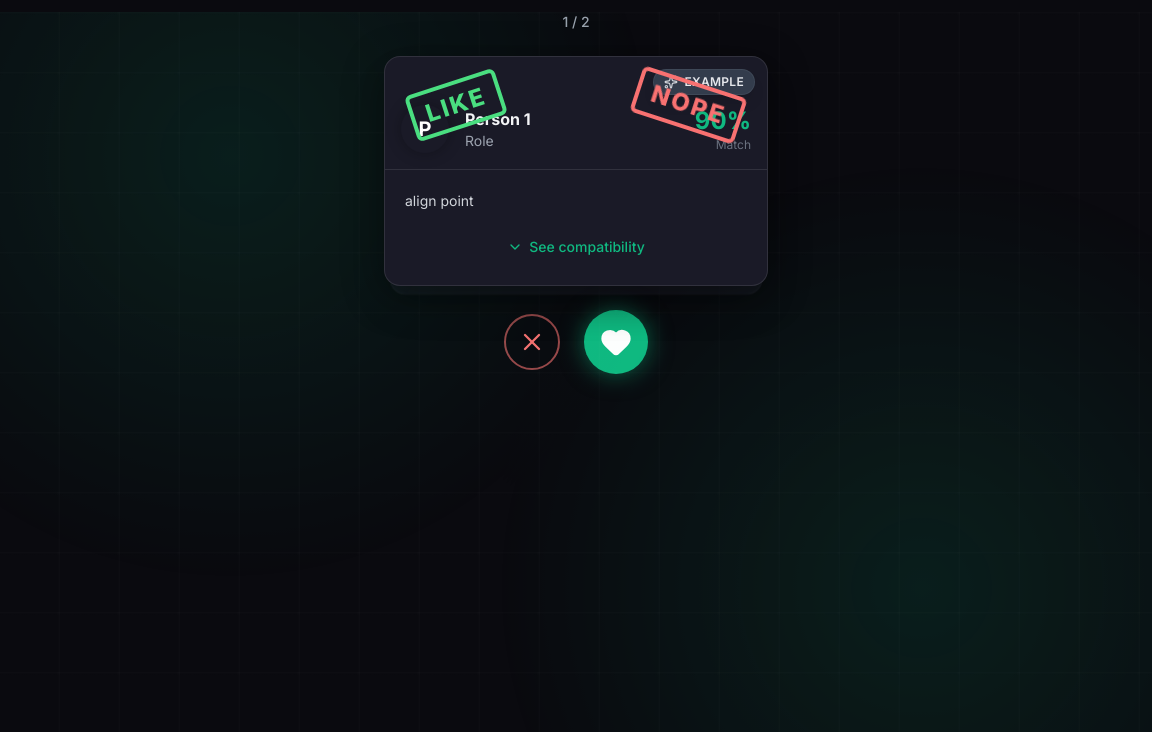
SwipeDeck › advances and buckets when the ♥ Like button is clicked
Click the button named "Like Person 1" at (616, 342), box 584,310 -> 648,374
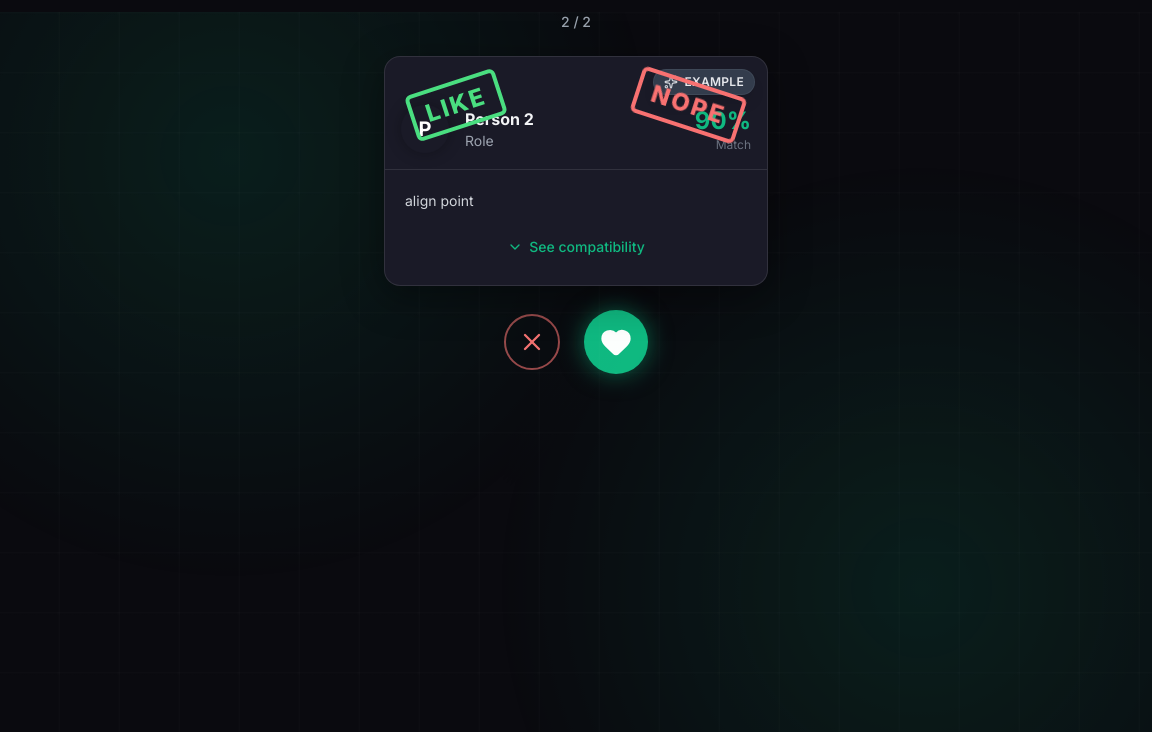
Now the text "2 / 2" is shown, box 561,12 -> 591,32
